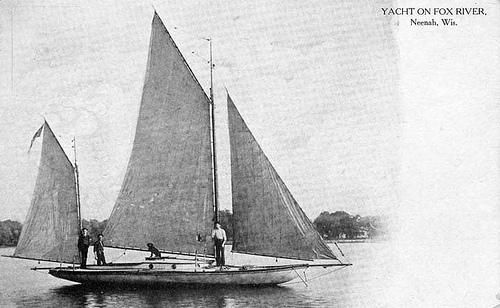Ship: (4, 10, 354, 289)
